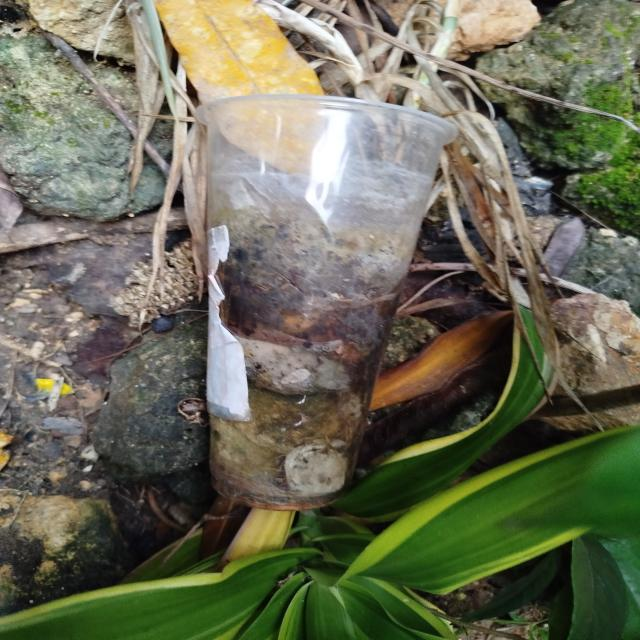residual: (181, 79, 455, 522)
